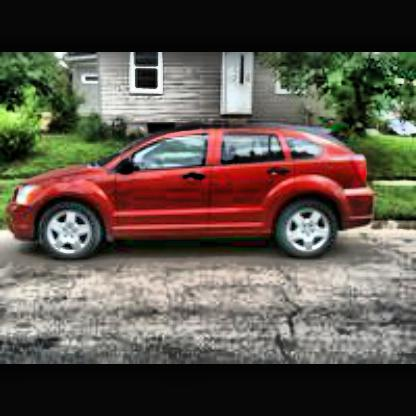Dodge Caliber Wagon 2012: (18, 124, 379, 265)
